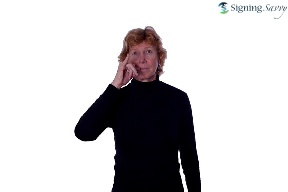drink: (108, 52, 140, 87)
